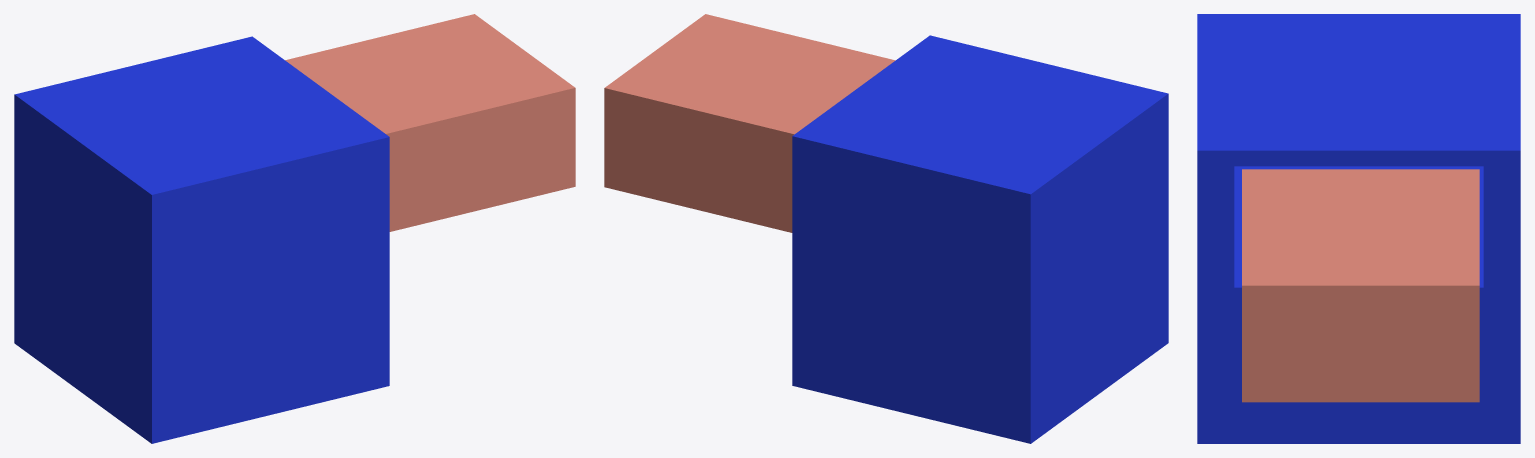
3 renders of one model, left to right at view 1: azimuth 30°, elevation 25°; view 2: azimuth 150°, elevation 25°; view 3: azimuth 270°, elevation 25°, orthographic. The views are drawn at different scales.
Visible parts, largest first — view 1: LEMARI, laci; view 2: LEMARI, laci; view 3: LEMARI, laci.
Boxes of the visible parts, bbox=[...] form: LEMARI: bbox=[14, 36, 389, 443]; laci: bbox=[285, 14, 575, 231]; LEMARI: bbox=[792, 35, 1168, 443]; laci: bbox=[604, 14, 895, 232]; LEMARI: bbox=[1197, 14, 1520, 443]; laci: bbox=[1242, 169, 1479, 402].
Size of what is drawn, in the model's own units: 1.72 by 0.9245 by 0.9245.
